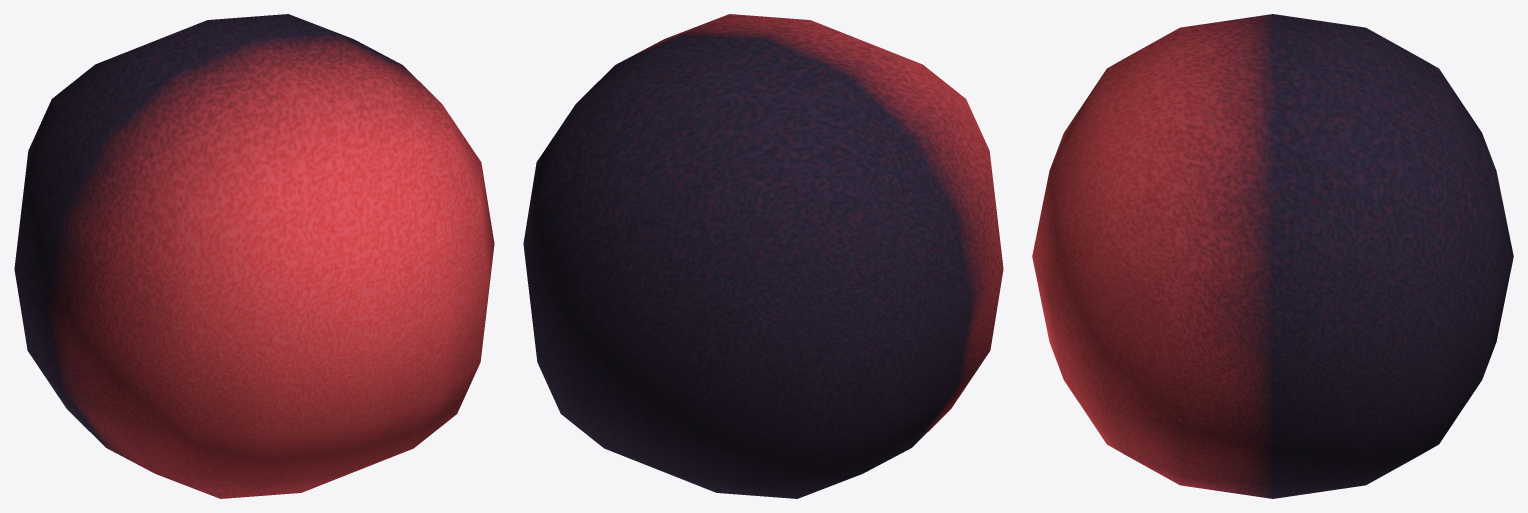
File: planet.obj
3 views of the same model, side by side, from view 1: azimuth 30°, elevation 25°; view 2: azimuth 150°, elevation 25°; view 3: azimuth 270°, elevation 25° (orthographic).
Parts seen in each view (by area): view 1: Mesh; view 2: Mesh; view 3: Mesh.
Part boxes in pixels (x1,y1,x2,y2): Mesh: (14, 14, 494, 498); Mesh: (523, 14, 1003, 498); Mesh: (1032, 14, 1513, 498).
Size of the model in its own units: 1.55 by 1.55 by 1.55.
